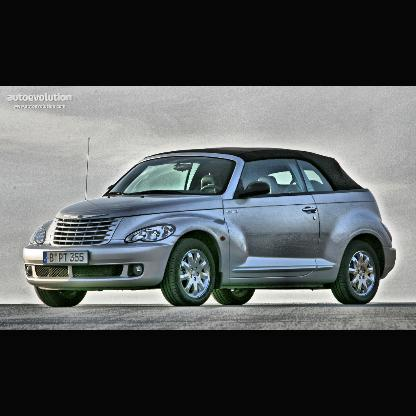Chrysler PT Cruiser Convertible 2008: (22, 145, 399, 307)
